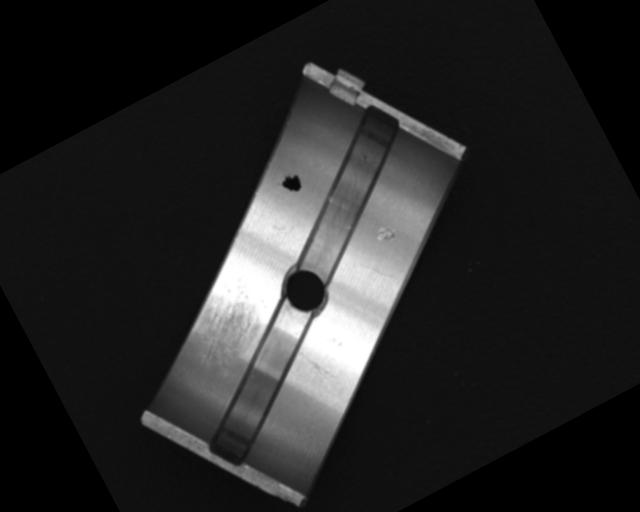blot: (276, 168, 305, 198)
bruise: (372, 220, 400, 246)
gap: (251, 105, 441, 285), (169, 305, 352, 475)
hole: (273, 259, 336, 322)
nick: (298, 340, 338, 393), (356, 251, 393, 288)
scratch: (169, 270, 281, 377)
